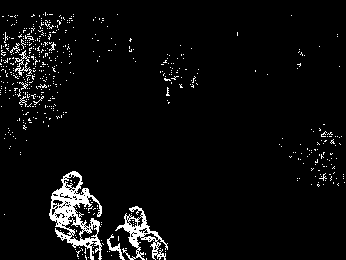person: (48, 170, 105, 260), (107, 206, 168, 260)
